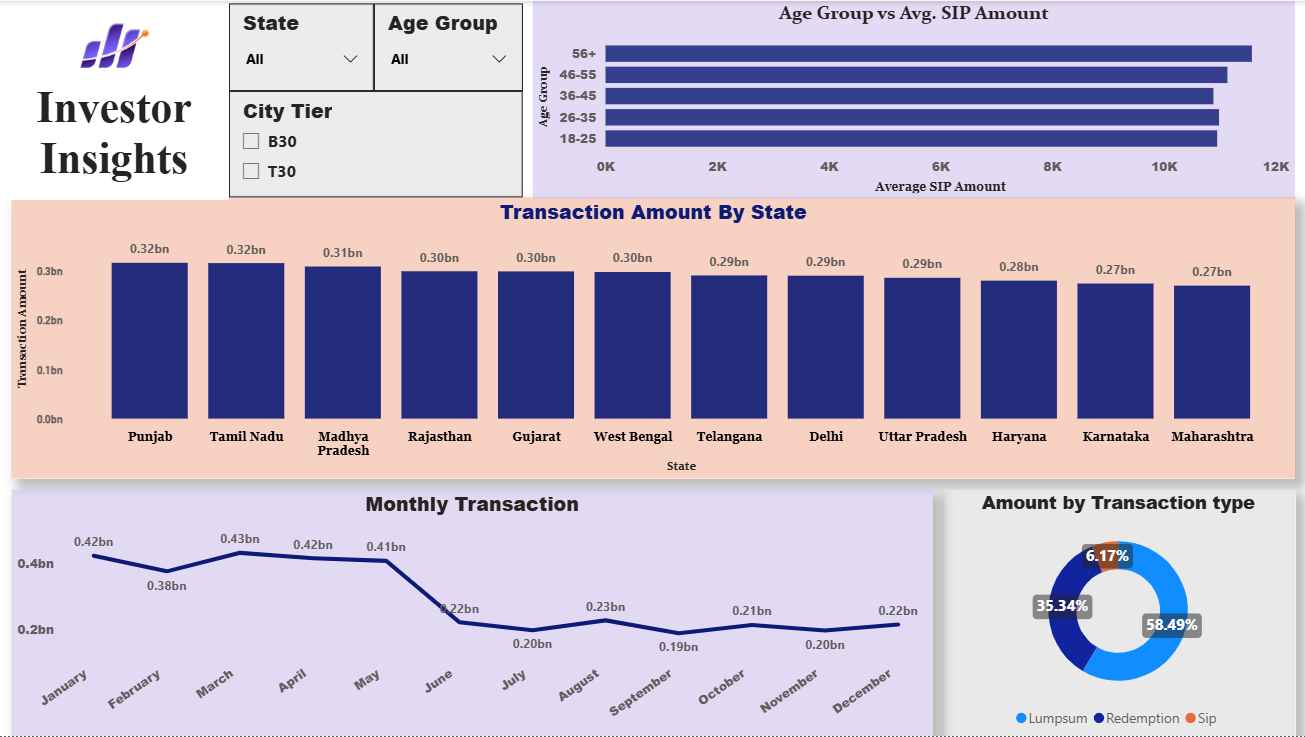

What the dashboard file says about the page in this screenshot:
{"tool":"powerbi","page":{"name":"Investor Analytics","canvas":[1280,720],"ordinal":2},"visuals":[{"type":"clusteredColumnChart","title":"Transaction Amount By State","fields":{"Category":["08_investor_transaction_clean.state"],"Y":["Sum(08_investor_transaction_clean.amount_inr)"]},"box":[12.2,192,1255.8,275.1],"z":0},{"type":"donutChart","title":"Amount by Transaction type","fields":{"Category":["08_investor_transaction_clean.transaction_type"],"Y":["Sum(08_investor_transaction_clean.amount_inr)"]},"box":[922,478.1,346.1,242.1],"z":1000},{"type":"clusteredBarChart","title":"Age Group vs Avg. SIP Amount","fields":{"Category":["08_investor_transaction_clean.age_group"],"Y":["Avg(08_investor_transaction_clean.amount_inr)"]},"box":[522.1,0,745.9,193.2],"z":2000},{"type":"lineChart","title":"Monthly Transaction","fields":{"Category":["08_investor_transaction_clean.transaction_date.Variation.Date Hierarchy.Month"],"Y":["Sum(08_investor_transaction_clean.amount_inr)"]},"box":[12.2,478.1,901.2,242.1],"z":3000},{"type":"slicer","title":"State","fields":{"Values":["08_investor_transaction_clean.state"]},"box":[225,2.4,141.8,85.6],"z":4000},{"type":"slicer","title":"Age Group","fields":{"Values":["08_investor_transaction_clean.age_group"]},"box":[366.8,2.4,145.5,85.6],"z":5000},{"type":"slicer","title":"City tier","fields":{"Values":["08_investor_transaction_clean.city_tier"]},"box":[225,88,287.4,103.9],"z":6000},{"type":"image","box":[0,0,225,88],"z":7000},{"type":"textbox","box":[0,74.6,225,119.8],"z":8000}]}

Visuals, with their boxes in screenshot pixels (x1, y1, x2, y2), scaled from the page's 1280x720 canvas onto the 1305x737 screenshot:
"Transaction Amount By State" clusteredColumnChart: x1=12 y1=197 x2=1293 y2=478
"Amount by Transaction type" donutChart: x1=940 y1=489 x2=1293 y2=736
"Age Group vs Avg. SIP Amount" clusteredBarChart: x1=532 y1=0 x2=1293 y2=198
"Monthly Transaction" lineChart: x1=12 y1=489 x2=931 y2=736
"State" slicer: x1=229 y1=2 x2=374 y2=90
"Age Group" slicer: x1=374 y1=2 x2=522 y2=90
"City tier" slicer: x1=229 y1=90 x2=522 y2=196
image: x1=0 y1=0 x2=229 y2=90
textbox: x1=0 y1=76 x2=229 y2=199
